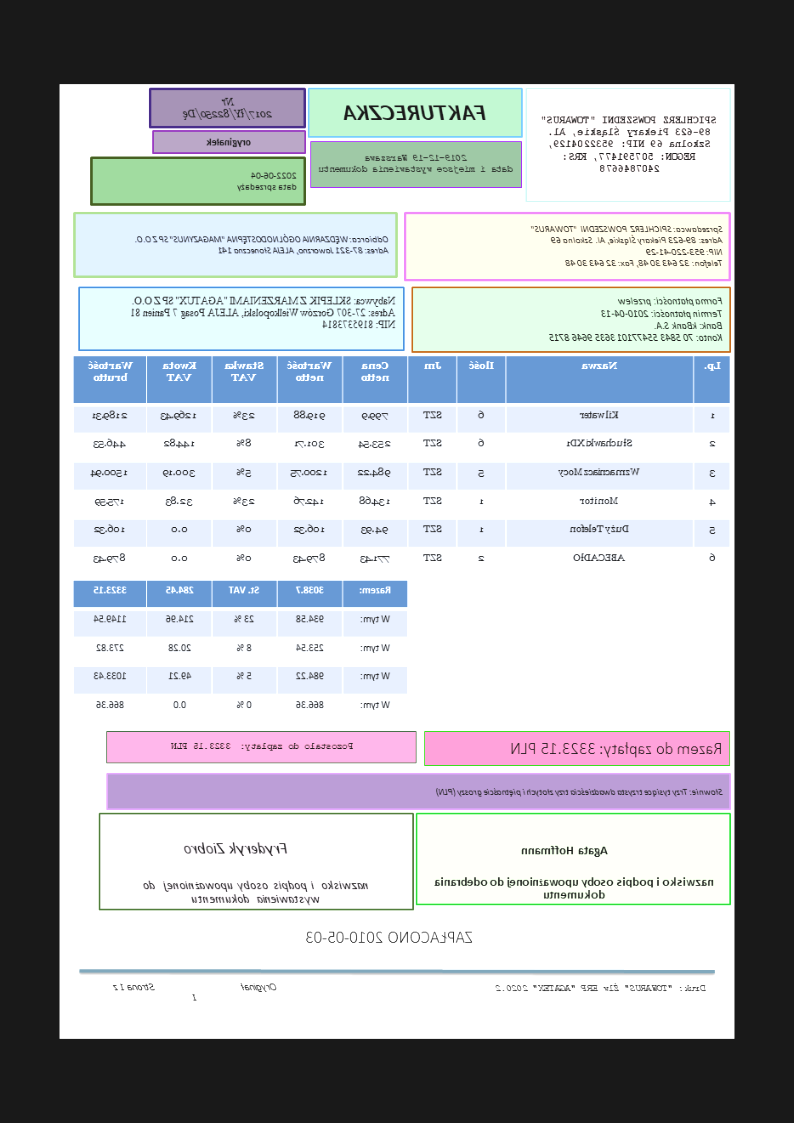Table: (74, 355, 731, 576), (72, 579, 409, 723)
TextBox: (541, 114, 718, 174), (128, 293, 397, 331), (528, 224, 725, 270), (547, 294, 725, 344), (434, 874, 715, 900), (133, 232, 392, 256), (142, 879, 370, 905), (317, 151, 516, 174), (434, 785, 725, 799), (510, 740, 723, 759), (110, 982, 278, 1002), (304, 928, 474, 945), (343, 103, 487, 122), (179, 95, 274, 122), (170, 740, 354, 753), (495, 983, 707, 994), (182, 839, 290, 859), (236, 170, 298, 193), (520, 844, 610, 859), (205, 135, 252, 150)
